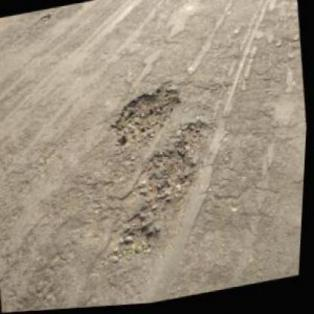Hueco: (102, 121, 226, 263), (107, 81, 189, 155)
